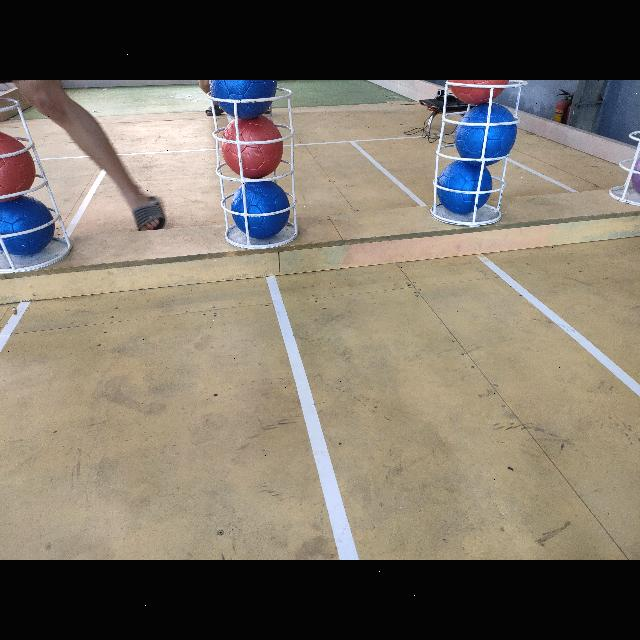B: (454, 104, 518, 166), (232, 179, 290, 239), (0, 195, 54, 255), (438, 159, 492, 215), (209, 80, 277, 118)
R: (220, 120, 284, 180), (0, 130, 38, 202), (447, 80, 509, 104)
